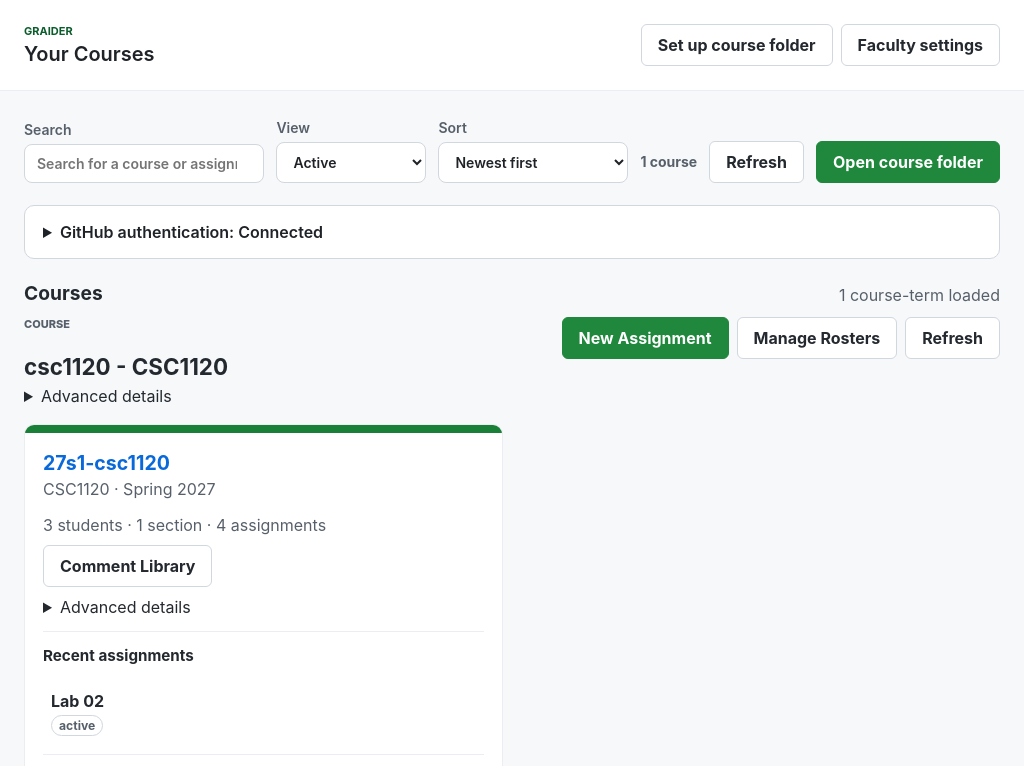
it: DashboardPage › manual Refresh still works after startup auto-refresh
expect the heading "27s1-csc1120" is shown: met, box [43,451,170,475]
Click the button "Refresh" below "Sort" at (757, 162), box [709,141,804,183]
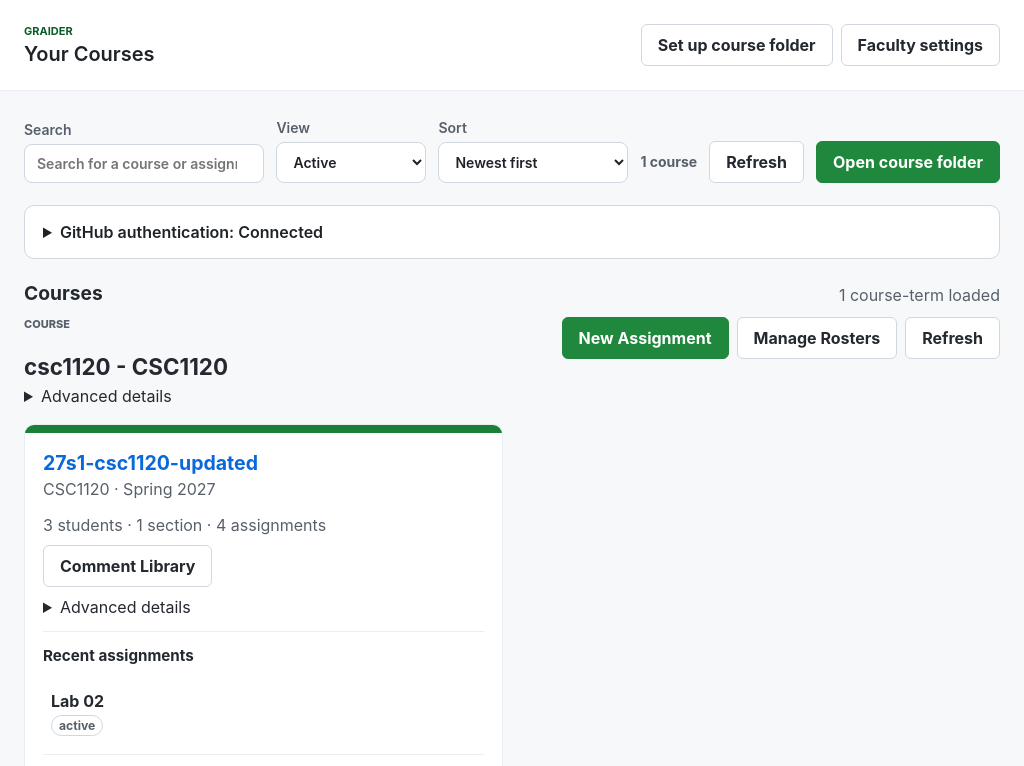
expect the heading "27s1-csc1120-updated" is shown: met, box [43,451,258,475]
